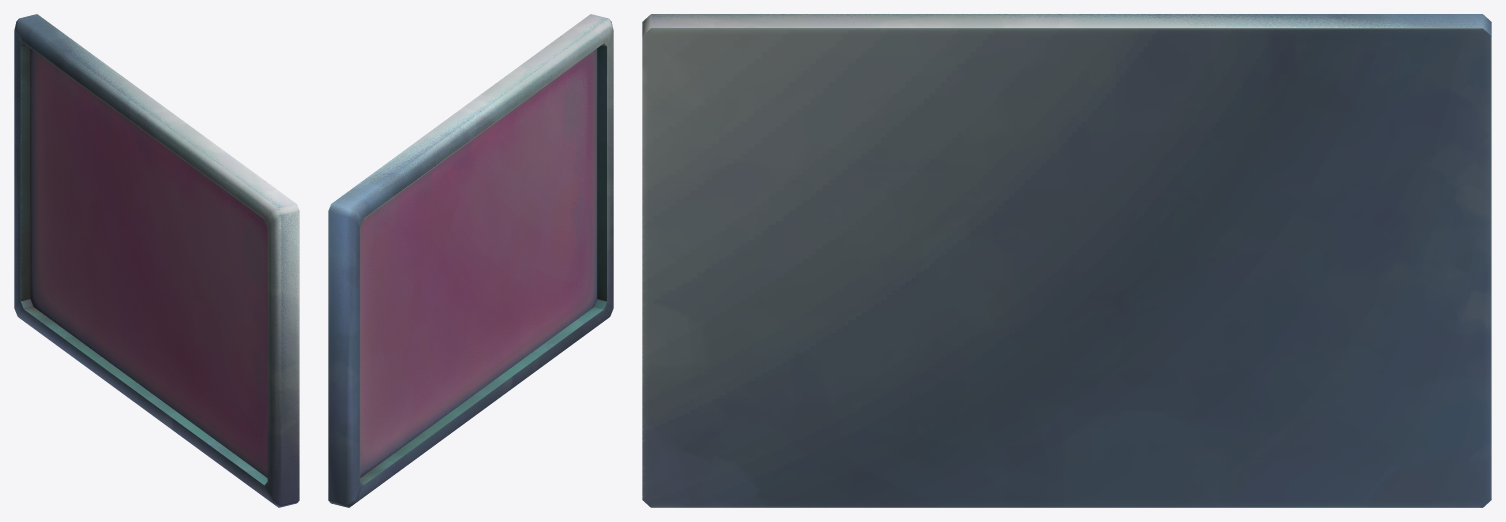
The model's file is pip2_sign_bm.fbx.
3 views of the same model, side by side, from view 1: azimuth 30°, elevation 25°; view 2: azimuth 150°, elevation 25°; view 3: azimuth 270°, elevation 25° (orthographic). The views are drawn at different scales.
Parts seen in each view (by area): view 1: sign; view 2: sign; view 3: sign.
Boxes of the visible parts, x1,y1,x2,y2 form: sign: [14, 14, 299, 507]; sign: [328, 14, 613, 507]; sign: [642, 14, 1491, 507].
Bounding box in the file's own units: 2 × 25.03 × 40.16.
2 materials, 2 textured.
